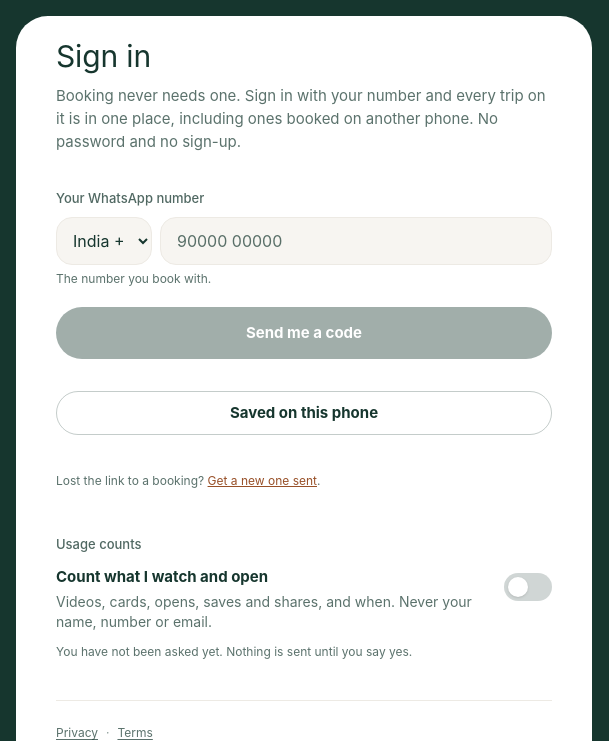
the two ways out of the code step › offers both as buttons, not as underlined words in small print
Type "9000000000" into the field labelled "Your WhatsApp number" at point(356, 241), box [160, 217, 552, 265]
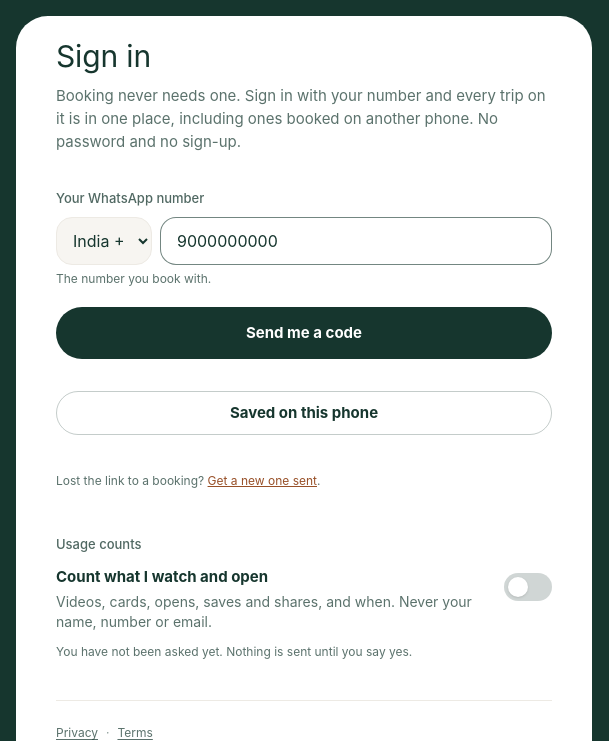
Click the button "Send me a code" at point(304, 333), box [56, 307, 552, 359]
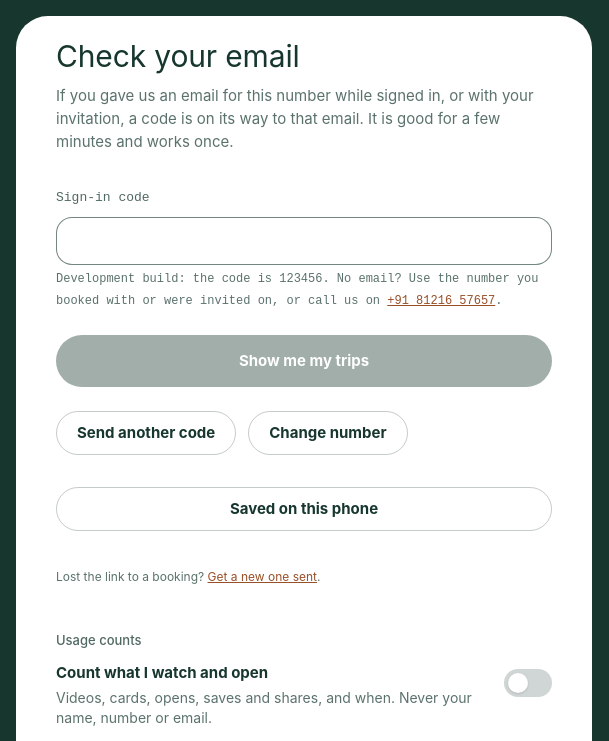
Expected: the field labelled "Sign-in code" is shown, [56, 217, 552, 265]
Expected: the button "Send another code" is shown, [56, 411, 236, 455]
Expected: the button "Change number" is shown, [248, 411, 408, 455]
